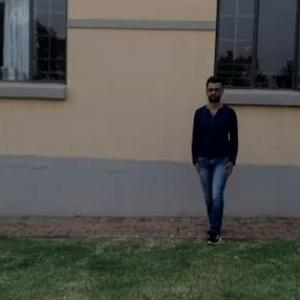follow: (190, 75, 238, 237)
